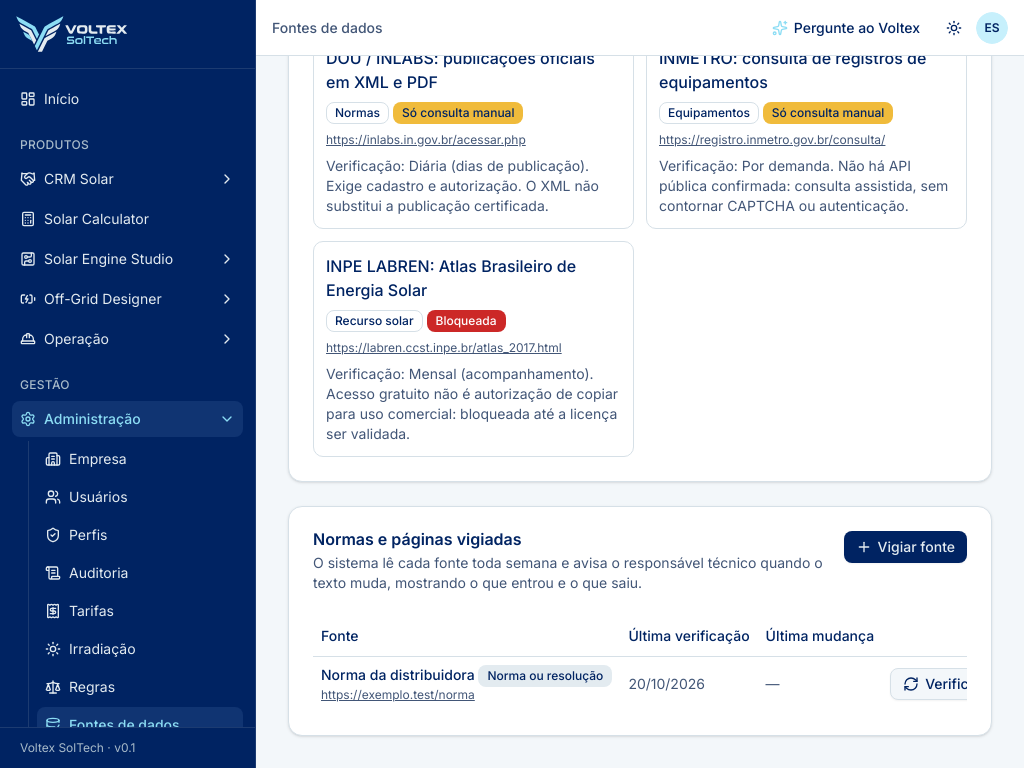
Test case: Administração → Fontes de dados › cadastra uma fonte, faz a coleta-base e mostra erro de endereço repetido
(page scrolled)
Step 1. Click the button "Vigiar fonte" → [905, 546], box 844,530 -> 967,562
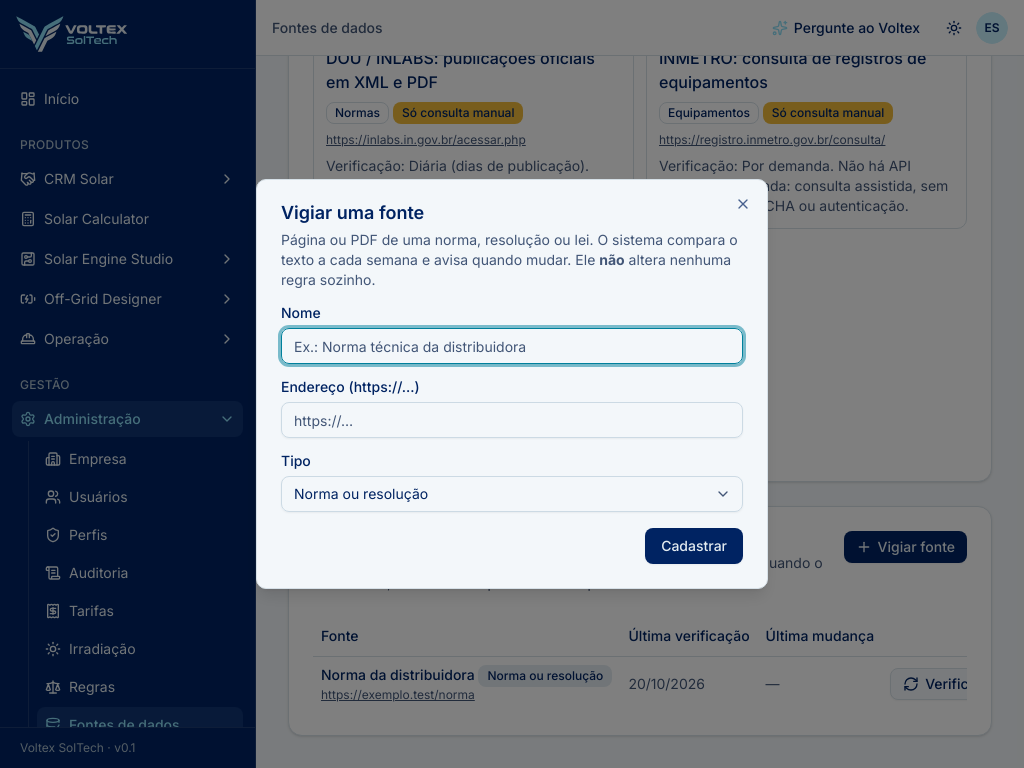
Step 2. Type "Resolução nova" into the field labelled "Nome" → [512, 346], box 281,328 -> 743,364
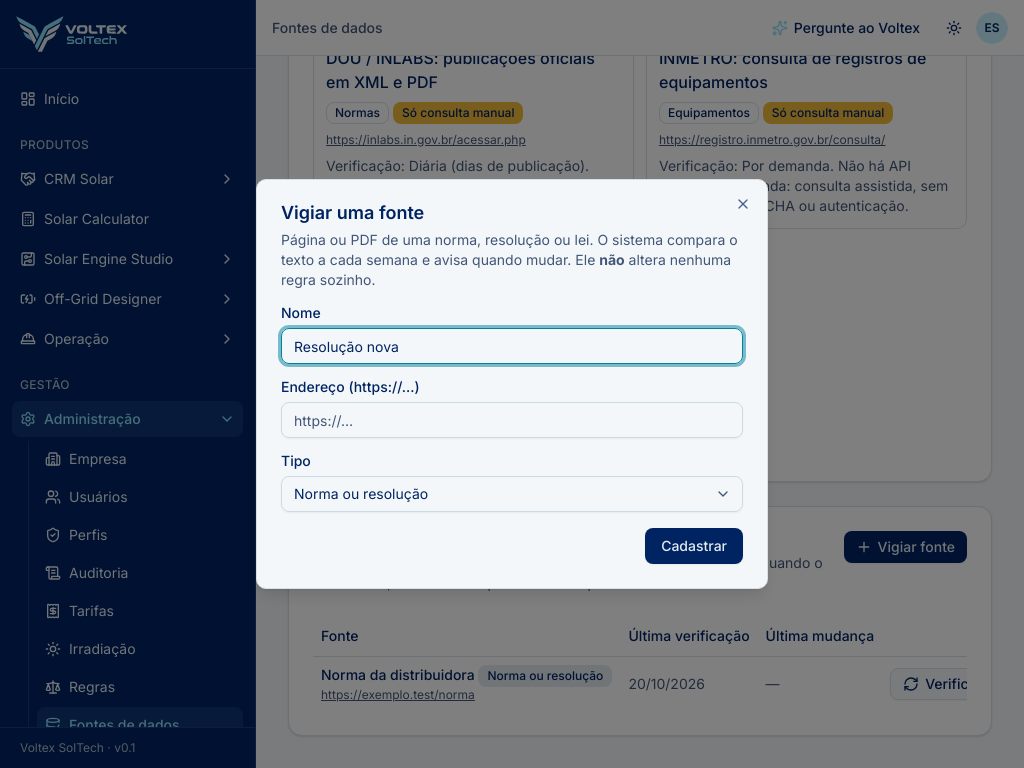
Step 3. Type "https://exemplo.test/res" into the field labelled "Endereço (https://…)" → [512, 420], box 281,402 -> 743,438
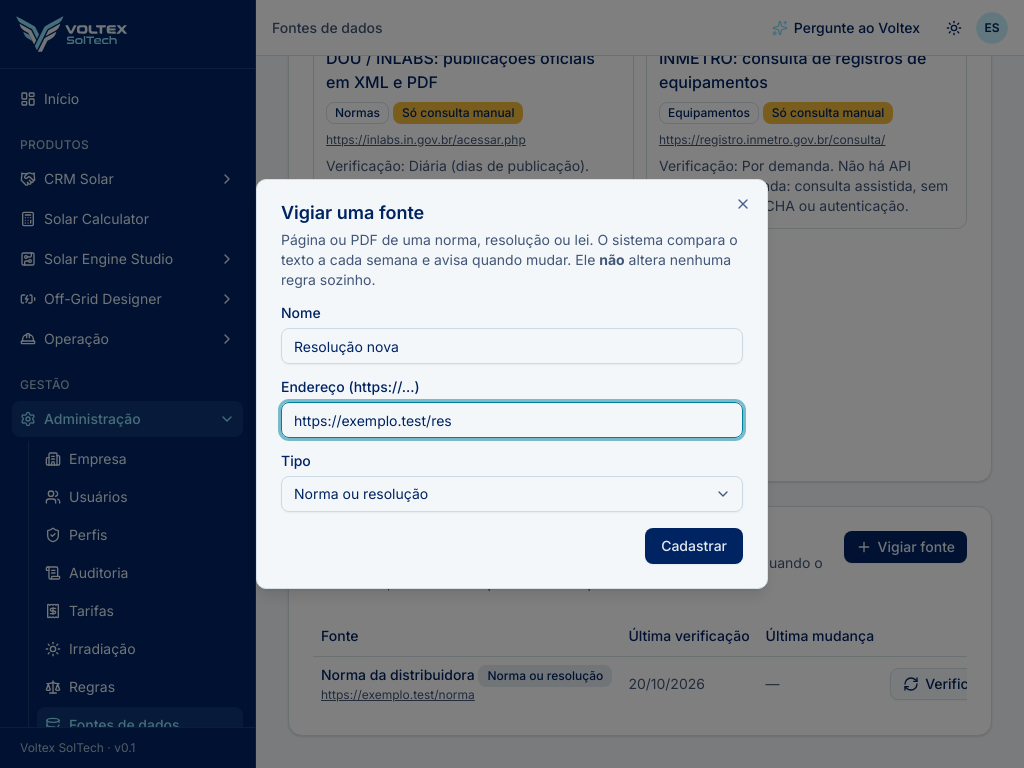
Step 4. Click the button "Cadastrar" → [694, 546], box 645,528 -> 743,564
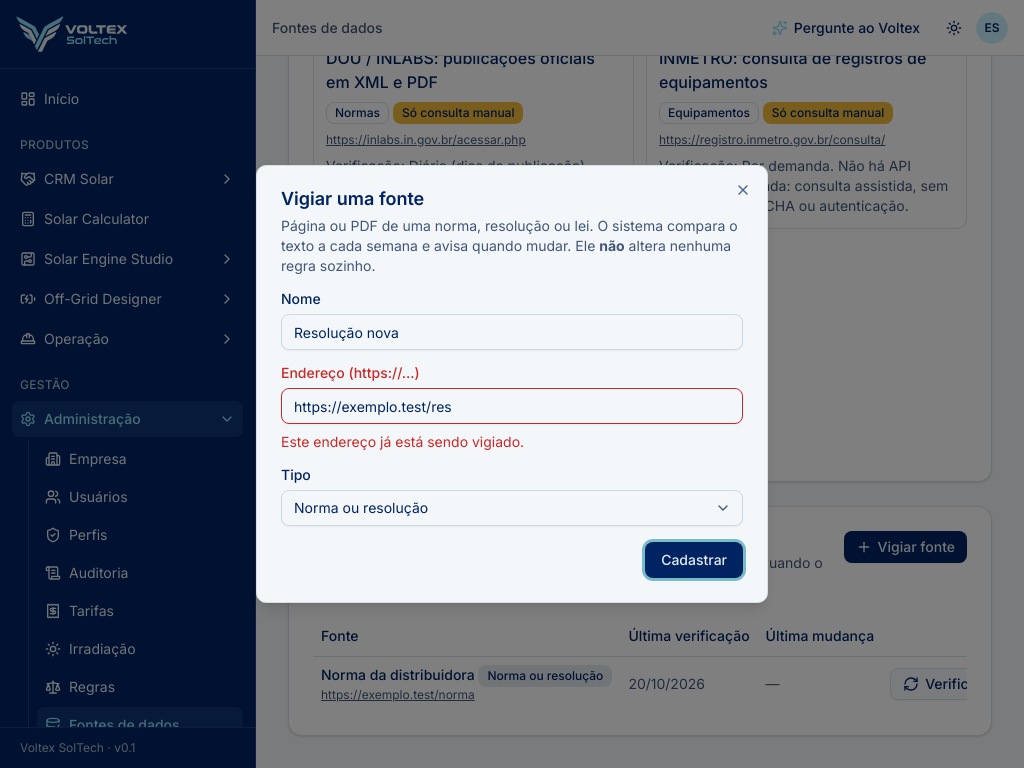
Expected: the text "Este endereço já está sendo vigiado." is shown, 281,433 -> 524,450
Step 5. Click the button "Cadastrar" → [694, 560], box 645,542 -> 743,578
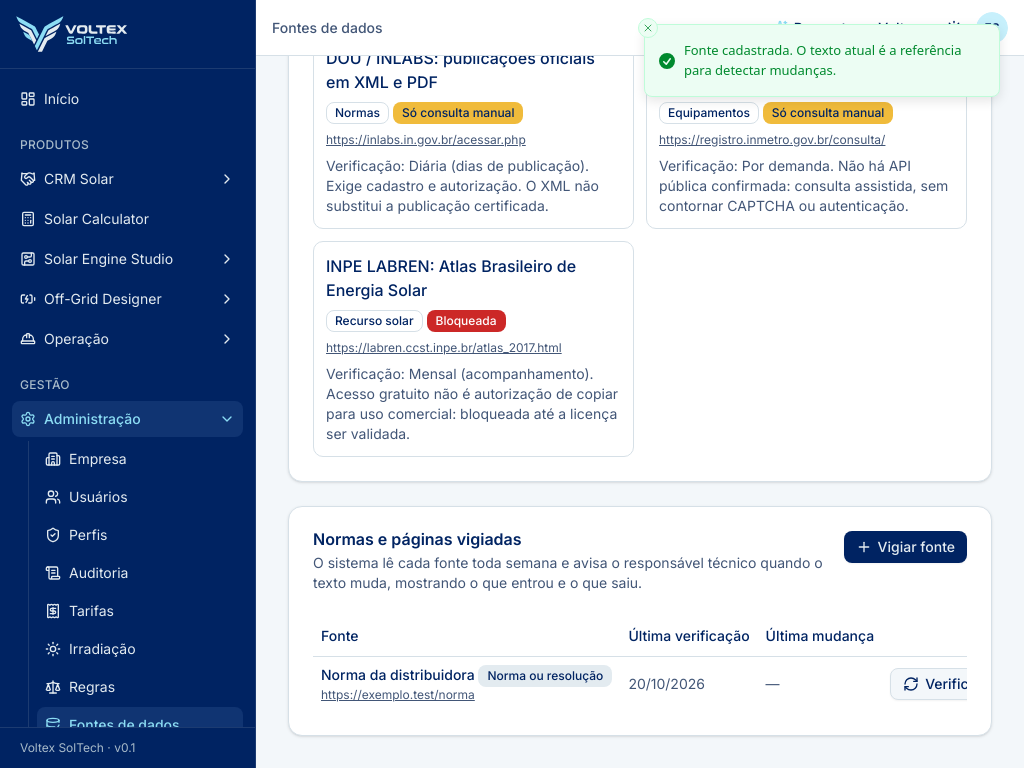
Expected: the dialog is gone
